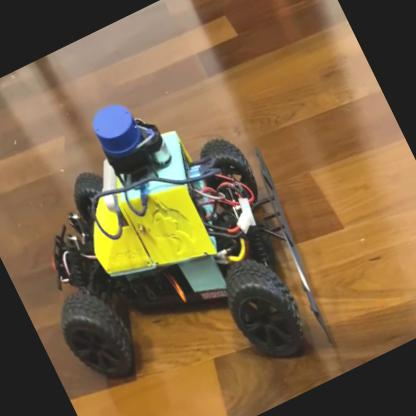mushr_car: (0, 48, 358, 415)
